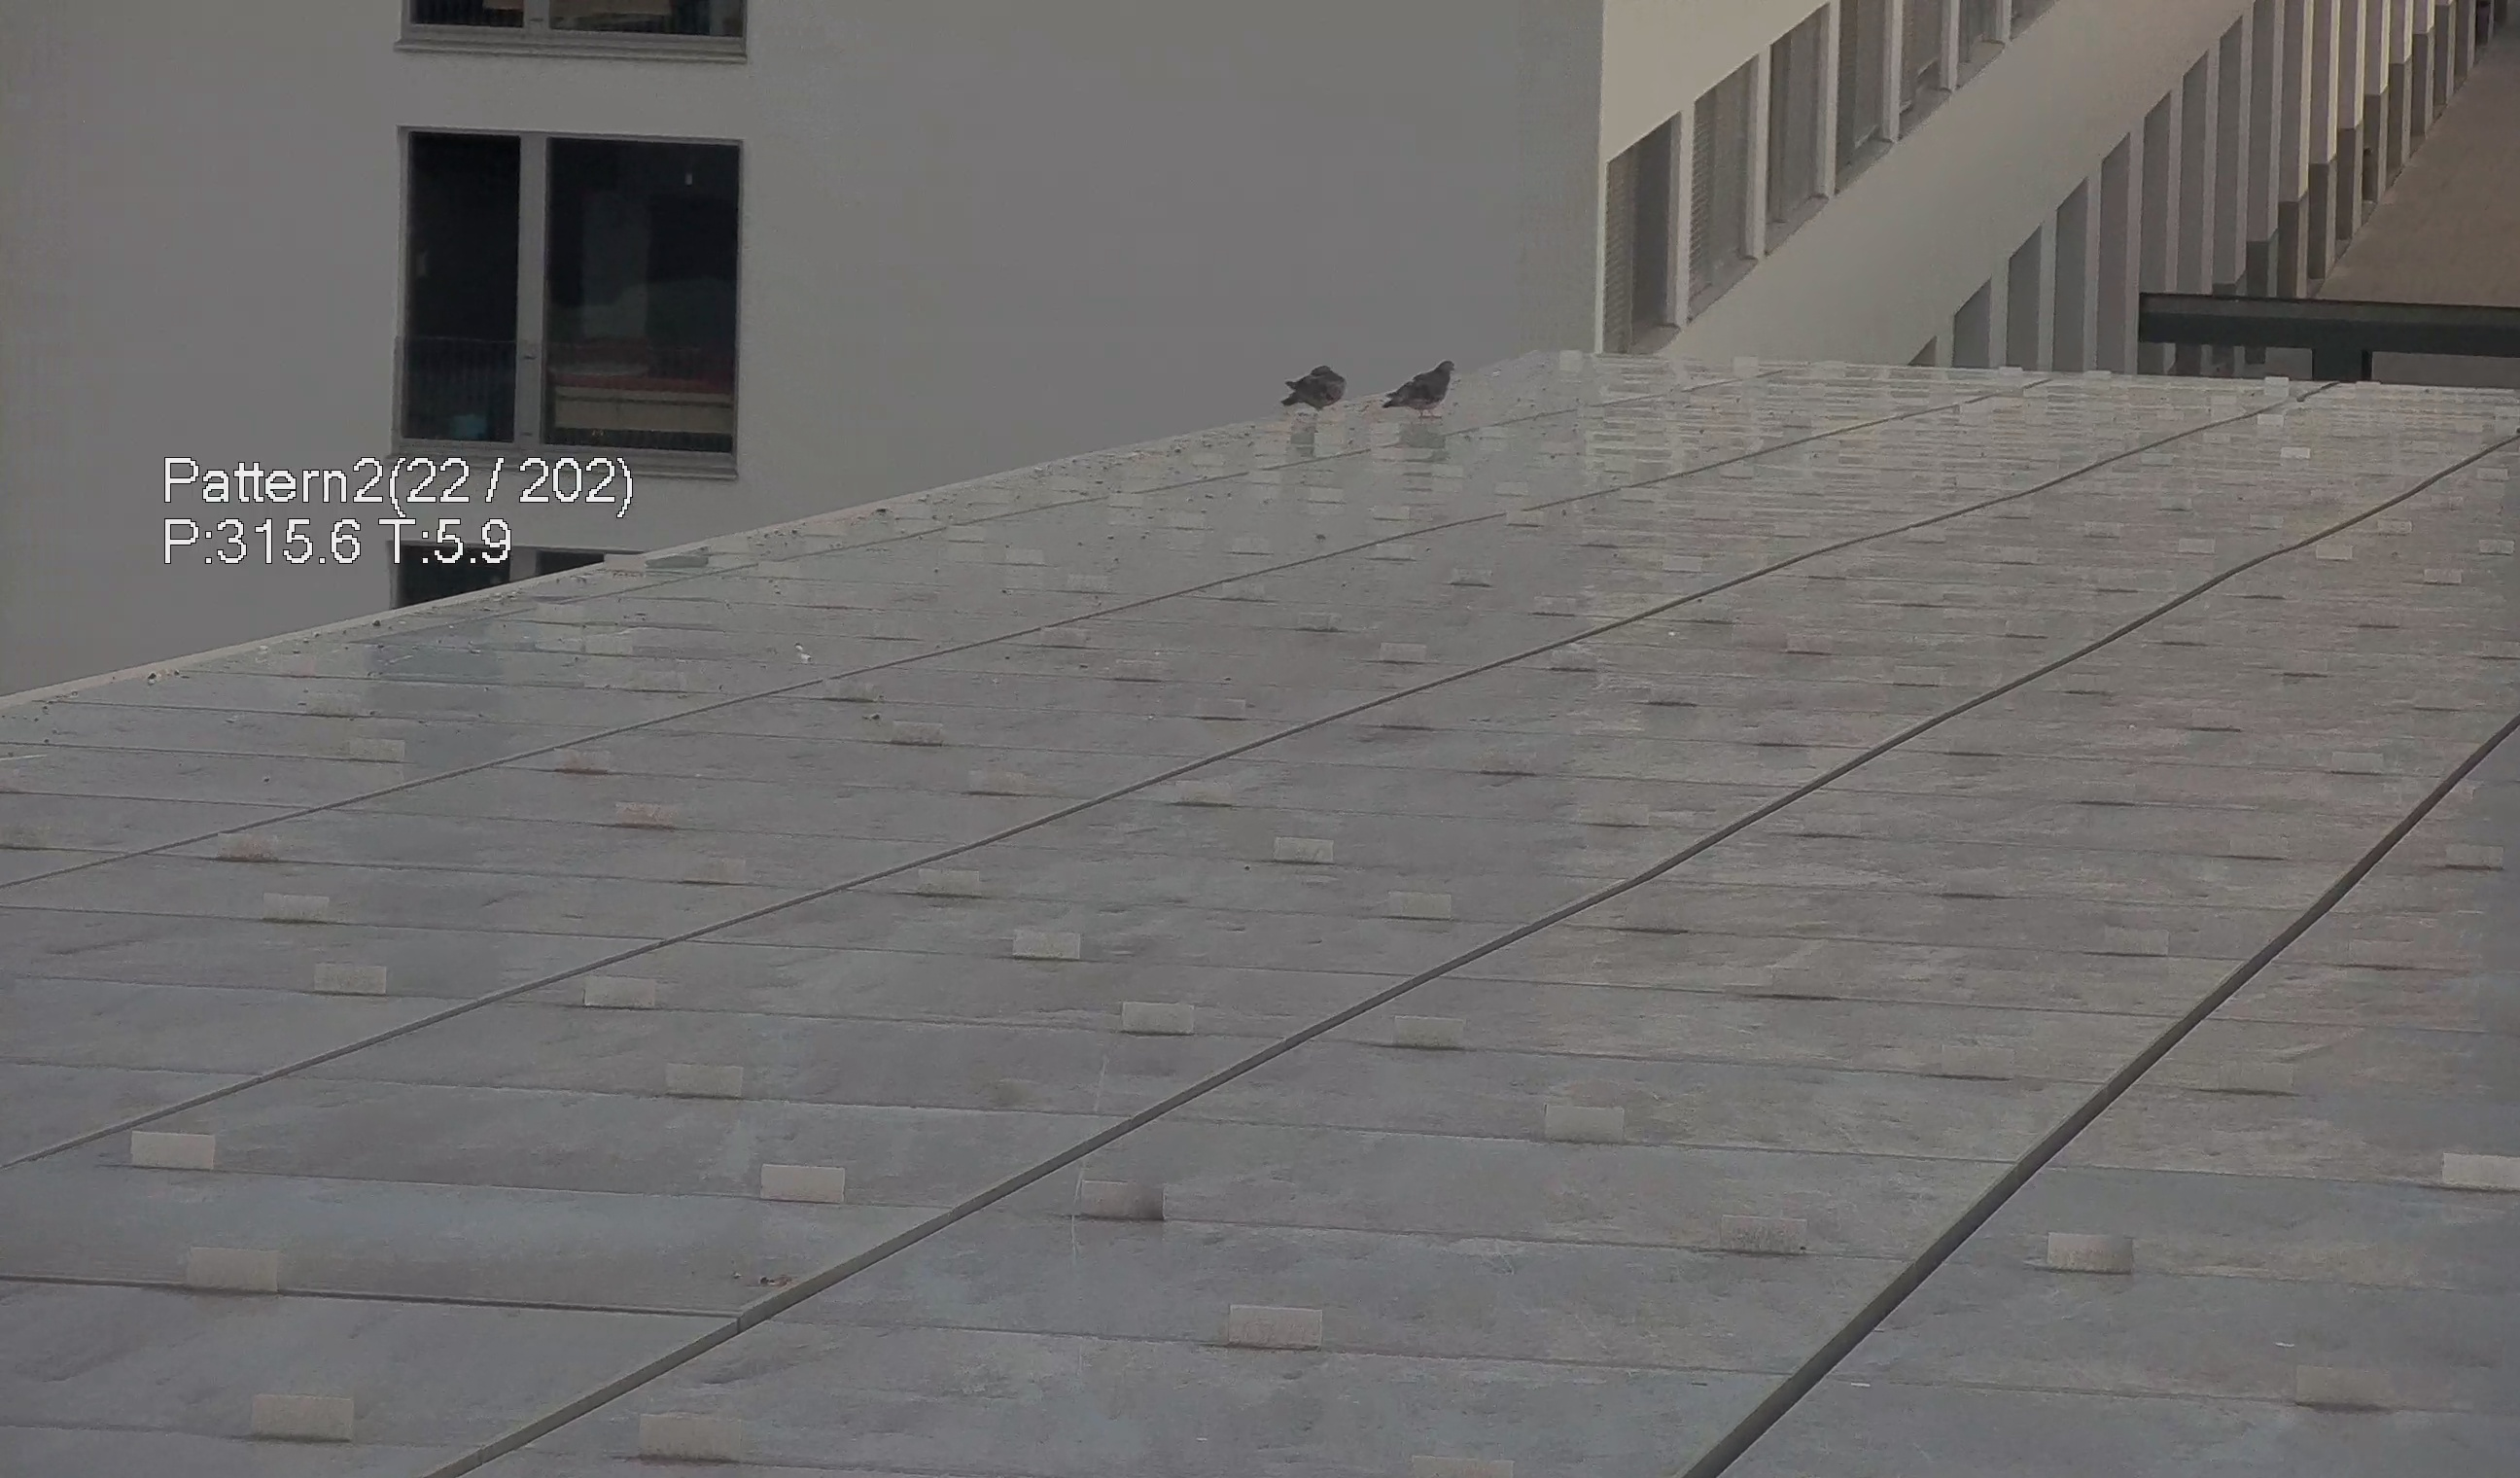Pigeon: (1368, 341, 1460, 417), (1271, 357, 1359, 421)
